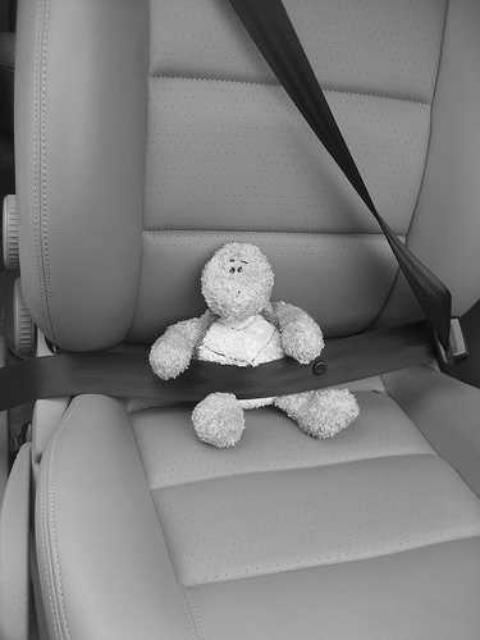Seatbelt: (0, 0, 480, 408)
